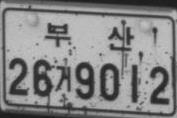0: (98, 61, 119, 102)
1: (124, 63, 143, 103)
2: (148, 64, 170, 105), (7, 56, 29, 95)
6: (31, 58, 52, 96)
9: (73, 60, 95, 100)
거: (54, 64, 72, 92)
부산_D: (43, 21, 135, 52)
